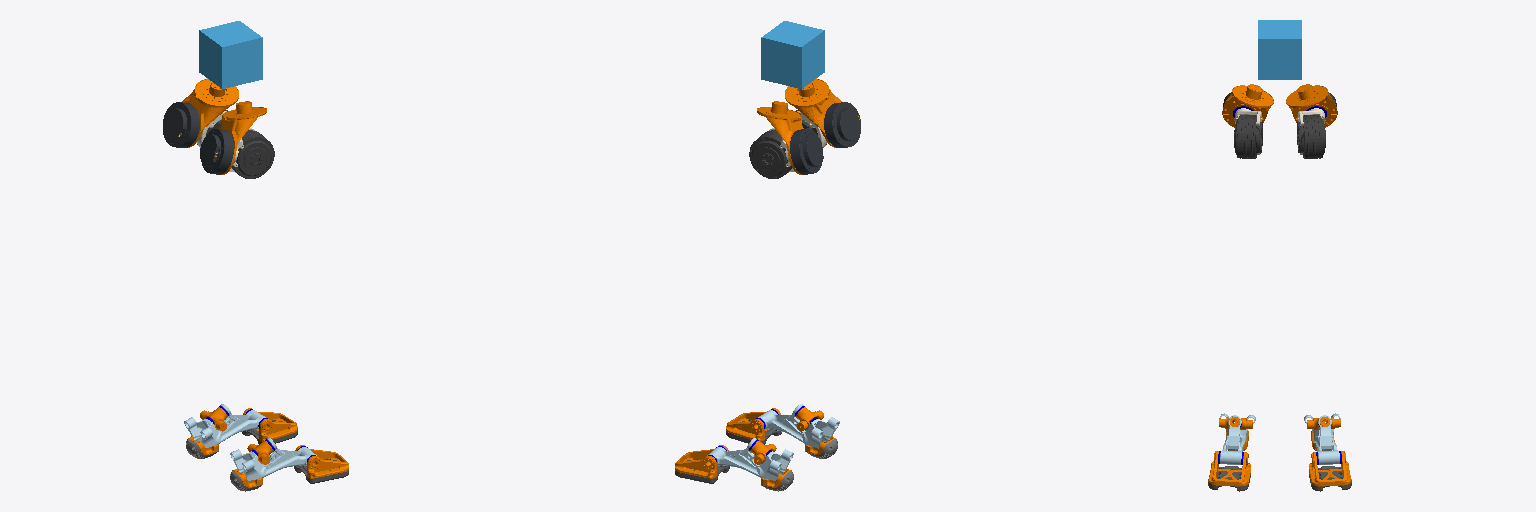
The robot description file, URDF, robot "prestoe":
<robot name="prestoe">
   
    <link name="torso_link">
        <inertial>
            <mass value="7.3955327"/>
            <inertia ixx="314898.04974e-6" ixy="-23.52183e-6" ixz="-983.13041e-6" iyy="292494.07567e-6" iyz="824.26242e-6" izz="47419.11099e-6"/>
            <origin rpy="0 0 0" xyz="0.02827e-3 -0.53546e-3 170.93286e-3"/>
        </inertial>
        <visual>
            <origin rpy="0 0 0" xyz="0.0 0.0 0.0"/>
            <geometry>
                <mesh filename="meshes/torso_link.dae"/>
            </geometry>
        </visual>
        <collision>
            <origin rpy="0 0 0" xyz="0.0 0.0 0.0"/>
            <geometry>
                <mesh filename="meshes/torso_link.dae"/>
            </geometry>
        </collision>
    </link>
    <joint name="torso_contact_joint" type="fixed">
        <parent link="torso_link"/>
        <child link="torso_contact"/>
        <origin xyz="0 0 0" rpy="0 0 0"/>
    </joint>
    <link name="torso_contact">
        <inertial>
            <mass value="0.0"/>
            <inertia ixx="0.0" ixy="0.0" ixz="0.0" iyy="0.0" iyz="0.0" izz="0.0"/>
            <origin rpy="0 0 0" xyz="0 0 0"/>
        </inertial>
        <visual>
            <origin rpy="0 0 0" xyz="0.0 0.0 0.0"/>
            <geometry>
                <box size="0.1 0.1 0.1"/>
            </geometry>
        </visual>
    </link>

 <joint name="a_torsoyaw" type="revolute">
      <parent link="torso_link"/>
      <child link="pelvis"/>
      <axis xyz="0 0 1"/>
      <origin rpy="0 0 0" xyz="0.0 0.0 -44.5e-3"/>
      <limit effort="1000" lower="-1.57079632679" upper="1.57079632679" velocity="20"/>
  </joint>

    <link name="pelvis">
        <inertial>
            <mass value="4.05352722"/>
            <inertia ixx="16129.06382e-6" ixy="0.02459e-6" ixz="-11.24282e-6" iyy="8349.24216e-6" iyz="0.16863e-6" izz="13083.52644e-6"/>
            <origin xyz="0.1893e-3 -0.00259e-3 -24.14927e-3"/>
        </inertial>
        <visual>
            <origin rpy="0 0 0" xyz="0.0 0.0 0.0"/>
            <geometry>
                <mesh filename="meshes/pelvis_link.dae"/>
            </geometry>
        </visual>
        <collision>
            <origin rpy="0 0 0" xyz="0.0 0.0 0.0"/>
            <geometry>
                <mesh filename="meshes/pelvis_link.dae"/>
            </geometry>
        </collision>
    </link>

    <joint name="bR_hipyaw" type="revolute">
        <parent link="pelvis"/>
        <child link="R_hipyaw_link"/>
        <axis xyz="0 0 1"/>
        <origin rpy="-0.2618 0 0" xyz="0 -54.71371e-3 -48.37244e-3"/>
        <!-- <origin rpy="0 0 0" xyz="0.0 0.0 -44.5e-3"/> -->
        <limit lower="-1.57" upper="1.57" effort="0.0" velocity="20.0"/>
    </joint>
    <link name="R_hipyaw_link">
        <inertial>
            <mass value="0.81333271"/>
            <inertia ixx="1468.70277e-6" ixy="2.09444e-6" ixz="-808.6506e-6" iyy="1952.95398e-6" iyz="0.83174e-6" izz="1403.2719e-6"/>
            <origin rpy="0 0 0" xyz="-60.23929e-3 0.06825e-3 -73.37881e-3"/>
        </inertial>
        <visual>
            <origin rpy="0 0 0" xyz="0.0 0.0 0.0"/>
            <geometry>
                <mesh filename="meshes/hip_yaw_link.dae"/>
            </geometry>
        </visual>
        <collision>
            <origin rpy="0 0 0" xyz="0.0 0.0 0.0"/>
            <geometry>
                <mesh filename="meshes/hip_yaw_link.dae"/>
            </geometry>
        </collision>
    </link>

    <joint name="R_hiproll" type="revolute">
        <parent link="R_hipyaw_link"/>
        <child link="R_hiproll_link"/>
        <axis xyz="1 0 0"/>
        <origin rpy="0.2618 0.3491 0" xyz="-63.99211e-3 0 -95.68919e-3"/>
        <!--another 15 degree tilt to undo the first one and 20 degree tilt-->
        <limit lower="-1.57" upper="1.57" effort="0.0" velocity="20.0"/>
    </joint>
    <link name="R_hiproll_link">
        <inertial>
            <mass value="1.14932568"/>
            <inertia ixx="920.07414e-6" ixy="-23.66697e-6" ixz="15.05929e-6" iyy="1586.13101e-6" iyz="2.15892e-6" izz="1226.34131e-6"/>
            <origin rpy="0 0 0" xyz="66.03824e-3 15.28026e-3 0.35756e-3"/>
        </inertial>
        <visual>
            <origin rpy="0 0 0" xyz="0.0 0.0 0.0"/>
            <geometry>
                <mesh filename="meshes/r_hip_roll_link.dae"/>
            </geometry>
        </visual>
        <collision>
            <origin rpy="0 0 0" xyz="0.0 0.0 0.0"/>
            <geometry>
                <mesh filename="meshes/r_hip_roll_link.dae"/>
            </geometry>
        </collision>
    </link>

    <joint name="R_hippitch" type="revolute">
        <parent link="R_hiproll_link"/>
        <child link="R_hippitch_link"/>
        <axis xyz="0 1 0"/>
        <origin rpy="0 -0.3491 0" xyz="74e-3 -15.7e-3 0"/>
        <!--another -20 degree tilt to undo the previous one-->
        <limit lower="-1.57" upper="1.57" effort="100.0" velocity="20.0"/>
    </joint>
    <link name="R_hippitch_link">
        <inertial>
            <mass value="4.3699915"/>
            <inertia ixx="298924.68663e-6" ixy="-352.44425e-6" ixz="7197.82909e-6" iyy="300685.59195e-6" iyz="13956.63711e-6" izz="10177.56262e-6"/>
            <origin rpy="0 0 0" xyz="8.85609e-3 12.34699e-3 -236.4855e-3"/>
        </inertial>

        <visual>
            <origin rpy="0 0 0" xyz="0.0 0.0 0.0"/>
            <geometry>
                <mesh filename="meshes/r_thigh_link.dae"/>
            </geometry>
        </visual>
        <collision>
            <origin rpy="0 0 0" xyz="0.0 0.0 0.0"/>
            <geometry>
                <mesh filename="meshes/r_thigh_link.dae"/>
            </geometry>
        </collision>
    </link>


    <joint name="R_knee" type="revolute">
        <parent link="R_hippitch_link"/>
        <child link="R_shank_link"/>
        <axis xyz="0 1 0"/>
        <origin rpy="0 0 0" xyz="0.0 15.2e-3 -348e-3"/>
        <limit upper="2.61799" lower="0.0" effort="0.0" velocity="20.0"/>
    </joint>
    <link name="R_shank_link">
        <inertial>
            <mass value="1.53872774"/>
            <inertia ixx="94818.95217e-6" ixy="0.73746e-6" ixz="-1571.54542e-6" iyy="94726.4192e-6" iyz="40.20347e-6" izz="2088.92694e-6"/>
            <origin rpy="0 0 0" xyz="-0.32914e-3 0.04704e-3 -219.68202e-3"/>
        </inertial>

        <visual>
            <origin rpy="0 0 0" xyz="0.0 0.0 0.0"/>
            <geometry>
                <mesh filename="meshes/shank_link.dae"/>
            </geometry>
        </visual>
        <collision>
            <origin rpy="0 0 0" xyz="0.0 0.0 0.0"/>
            <geometry>
                <mesh filename="meshes/shank_link.dae"/>
            </geometry>
        </collision>
    </link>


    <joint name="R_anklepitch" type="revolute">
        <parent link="R_shank_link"/>
        <child link="R_ankle_link"/>
        <axis xyz="0 1 0"/>
        <origin rpy="0 -0.523599 0" xyz="0.0 0.0 -0.355"/>
        <!--shift downwards, rotate by -30 deg-->
        <limit lower="-1.57" upper="1.57" effort="0.0" velocity="20.0"/>
    </joint>
    <link name="R_ankle_link">
        <inertial>
            <mass value="0.20111053"/>
            <inertia ixx="48.83414e-6" ixy="0.00143e-6" ixz="-0.0021e-6" iyy="45.95624e-6" iyz="0.00153e-6" izz="74.52458e-6"/>
            <origin rpy="0 0 0" xyz="11.07071e-3 0.00053e-3 -0.00076e-3"/>
        </inertial>

        <visual>
            <origin rpy="0 0 0" xyz="0.0 0.0 0.0"/>
            <geometry>
                <mesh filename="meshes/ankle_pitch_link.dae"/>
            </geometry>
        </visual>
        <collision>
            <origin rpy="0 0 0" xyz="0.0 0.0 0.0"/>
            <geometry>
                <mesh filename="meshes/ankle_pitch_link.dae"/>
            </geometry>
        </collision>
    </link>


    <joint name="R_ankleroll" type="revolute">
        <parent link="R_ankle_link"/>
        <child link="R_foot_link"/>
        <axis xyz="1 0 0"/>
        <origin rpy="0 0 0" xyz="0.0 0.0 0.0"/>
        <limit lower="-0.785" upper="0.785" effort="0.0" velocity="20.0"/>
    </joint>
    <link name="R_foot_link">
        <inertial>
            <mass value="0.67696856"/>
            <inertia ixx="2711.33678e-6" ixy="-0.10761e-6" ixz="1805.42888e-6" iyy="4882.55547e-6" iyz="-0.08071e-6" izz="2592.25732e-6"/>
            <origin rpy="0 0 0" xyz="22.09392e-3 -0.00337e-3 -50.15365e-3"/>
        </inertial>

        <visual>
            <origin rpy="0 0 0" xyz="0.0 0.0 0.0"/>
            <geometry>
                <mesh filename="meshes/foot_link.dae"/>
            </geometry>
        </visual>
        <collision>
            <origin rpy="0 0 0" xyz="0.0 0.0 0.0"/>
            <geometry>
                <mesh filename="meshes/foot_link.dae"/>
            </geometry>
        </collision>
    </link>
    <link name="R_heel_contact"/>
    <joint name="R_heel_contact_joint" type="fixed">
        <parent link="R_foot_link"/>
        <child link="R_heel_contact"/>
        <origin xyz="-64.374e-3 0 -51.76e-3" rpy="0 0 0"/>
    </joint> 

    <joint name="R_toepitch" type="revolute">
        <parent link="R_foot_link"/>
        <child link="R_toe_link"/>
        <axis xyz="0 1 0"/>
        <origin rpy="0 0.523599 0" xyz="84.97837e-3 0.0 -85.43851e-3"/>
        <limit lower="-0.5236" upper="0.5236" effort="0.0" velocity="20.0"/>
    </joint>
    <link name="R_toe_link">
        <inertial>
            <mass value="0.25395867"/>
            <inertia ixx="422.66848e-6" ixy="0.30058e-6" ixz="201.67782e-6" iyy="648.32269e-6" iyz="0.69143e-6" izz="657.93967e-6"/>
            <origin rpy="0 0 0" xyz="27.48999e-3 0.10489e-3 -26.31463e-3"/>
        </inertial>

        <visual>
            <origin rpy="0 0 0" xyz="0.0 0.0 0.0"/>
            <geometry>
                <mesh filename="meshes/toe_link.dae"/>
            </geometry>
        </visual>
        <collision>
            <origin rpy="0 0 0" xyz="0.0 0.0 0.0"/>
            <geometry>
                <mesh filename="meshes/toe_link.dae"/>
            </geometry>
        </collision>
    </link>
    <link name="R_toe_contact_1"/>
    <joint name="R_toe_contact_joint_1" type="fixed">
        <parent link="R_toe_link"/>
        <child link="R_toe_contact_1"/>
        <origin xyz="69e-3 30e-3 -44.9e-3" rpy="0 0 0"/>
    </joint>
    <link name="R_toe_contact_2"/>
    <joint name="R_toe_contact_joint_2" type="fixed">
        <parent link="R_toe_link"/>
        <child link="R_toe_contact_2"/>
        <origin xyz="-4e-3 33e-3 -44.9e-3" rpy="0 0 0"/>
    </joint>
    <link name="R_toe_contact_3"/>
    <joint name="R_toe_contact_joint_3" type="fixed">
        <parent link="R_toe_link"/>
        <child link="R_toe_contact_3"/>
        <origin xyz="69e-3 -30e-3 -44.9e-3" rpy="0 0 0"/>
    </joint>
    <link name="R_toe_contact_4"/>
    <joint name="R_toe_contact_joint_4" type="fixed">
        <parent link="R_toe_link"/>
        <child link="R_toe_contact_4"/>
        <origin xyz="-4e-3 -33e-3 -44.9e-3" rpy="0 0 0"/>
    </joint>
    <!--1 _________3
        |           |
        2           4
            5
    -->

    <!--!!!!!!!!!!!! Left Leg !!!!!!!!!!!!!!!!!!!!!!!!!!!!!!!!!!!!-->
    <joint name="cL_hipyaw" type="revolute">
        <parent link="pelvis"/>
        <child link="L_hipyaw_link"/>
        <axis xyz="0 0 1"/>
        <origin rpy="0.2618 0 0" xyz="0 54.71371e-3 -48.37244e-3"/>
        <limit effort="100" lower="-1.570796" upper="1.570796" velocity="20"/>
    </joint>
    <link name="L_hipyaw_link">
        <inertial>
            <mass value="0.81333271"/>
            <inertia ixx="1468.70277e-6" ixy="2.09444e-6" ixz="-808.6506e-6" iyy="1952.95398e-6" iyz="0.83174e-6" izz="1403.2719e-6"/>
            <origin rpy="0 0 0" xyz="-60.23929e-3 0.06825e-3 -73.37881e-3"/>
            <!-- Since this is left leg, y coordinate is positive -->
        </inertial>
        <visual>
            <origin rpy="0 0 0" xyz="0.0 0.0 0.0"/>
            <geometry>
                <mesh filename="meshes/hip_yaw_link.dae"/>
            </geometry>
        </visual>
        <collision>
            <origin rpy="0 0 0" xyz="0.0 0.0 0.0"/>
            <geometry>
                <mesh filename="meshes/hip_yaw_link.dae"/>
            </geometry>
        </collision>
    </link>

    <joint name="L_hiproll" type="revolute">
        <parent link="L_hipyaw_link"/>
        <child link="L_hiproll_link"/>
        <axis xyz="1 0 0"/>
        <origin rpy="-0.2618 0.3491 0" xyz="-63.99211e-3 0 -95.68919e-3"/>
        <!--another -15 degree tilt to undo the first one and 20 degree tilt-->
        <limit effort="100" lower="-1.570796" upper="1.570796" velocity="20"/>
    </joint>
    <link name="L_hiproll_link">
        <inertial>
            <mass value="1.14932588"/>
            <inertia ixx="920.08555e-6" ixy="23.66599e-6" ixz="13.88681e-6" iyy="1586.14307e-6" iyz="-2.43377e-6" izz="1226.34169e-6"/>
            <origin rpy="0 0 0" xyz="66.03823e-3 -15.28028e-3 0.34236e-3"/>
        </inertial>
        <visual>
            <origin rpy="0 0 0" xyz="0.0 0.0 0.0"/>
            <geometry>
                <mesh filename="meshes/l_hip_roll_link.dae"/>
            </geometry>
        </visual>
        <collision>
            <origin rpy="0 0 0" xyz="0.0 0.0 0.0"/>
            <geometry>
                <mesh filename="meshes/l_hip_roll_link.dae"/>
            </geometry>
        </collision>
    </link>

    <joint name="L_hippitch" type="revolute">
        <parent link="L_hiproll_link"/>
        <child link="L_hippitch_link"/>
        <axis xyz="0 1 0"/>
        <origin rpy="0 -0.3491 0" xyz="74e-3 15.7e-3 0"/>
        <!--another -20 degree tilt to undo the previous one-->
        <limit effort="100" lower="-1.570796" upper="1.570796" velocity="20"/>
    </joint>
    <link name="L_hippitch_link">
        <inertial>
            <mass value="4.3699915"/>
            <inertia ixx="298924.68663e-6" ixy="352.44425e-6" ixz="7197.82909e-6" iyy="300685.59195e-6" iyz="-13956.63711e-6" izz="10177.56262e-6"/>
            <origin rpy="0 0 0" xyz="8.85609e-3 -12.34699e-3 -236.4855e-3"/>
            <!-- Since this is left leg, y coordinate is negative -->
        </inertial>

        <visual>
            <origin rpy="0 0 0" xyz="0.0 0.0 0.0"/>
            <geometry>
                <mesh filename="meshes/l_thigh_link.dae"/>
            </geometry>
        </visual>
        <collision>
            <origin rpy="0 0 0" xyz="0.0 0.0 0.0"/>
            <geometry>
                <mesh filename="meshes/l_thigh_link.dae"/>
            </geometry>
        </collision>
    </link>


    <joint name="L_knee" type="revolute">
        <parent link="L_hippitch_link"/>
        <child link="L_shank_link"/>
        <axis xyz="0 1 0"/>
        <origin rpy="0 0 0" xyz="0.0 -15.2e-3 -348e-3"/>
        <limit effort="100" upper="2.61799" lower="0.0" velocity="20"/>
    </joint>
    <link name="L_shank_link">
        <inertial>
            <mass value="1.53872774"/>
            <inertia ixx="94818.95217e-6" ixy="0.73746e-6" ixz="-1571.54542e-6" iyy="94726.4192e-6" iyz="40.20347e-6" izz="2088.92694e-6"/>
            <origin rpy="0 0 0" xyz="-0.32914e-3 0.04704e-3 -219.68202e-3"/>
        </inertial>

        <visual>
            <origin rpy="0 0 0" xyz="0.0 0.0 0.0"/>
            <geometry>
                <mesh filename="meshes/shank_link.dae"/>
            </geometry>
        </visual>
        <collision>
            <origin rpy="0 0 0" xyz="0.0 0.0 0.0"/>
            <geometry>
                <mesh filename="meshes/shank_link.dae"/>
            </geometry>
        </collision>
    </link>


    <joint name="L_anklepitch" type="revolute">
        <parent link="L_shank_link"/>
        <child link="L_ankle_link"/>
        <axis xyz="0 1 0"/>
        <origin rpy="0 -0.523599 0" xyz="0.0 0.0 -0.355"/>
        <!--shift downwards, rotate by -30 deg-->
        <limit effort="100" lower="-1.570796" upper="1.570796" velocity="20"/>
    </joint>
    <link name="L_ankle_link">
        <inertial>
            <mass value="0.20111053"/>
            <inertia ixx="48.83414e-6" ixy="0.00143e-6" ixz="-0.0021e-6" iyy="45.95624e-6" iyz="0.00153e-6" izz="74.52458e-6"/>
            <origin rpy="0 0 0" xyz="11.07071e-3 0.00053e-3 -0.00076e-3"/>
        </inertial>

        <visual>
            <origin rpy="0 0 0" xyz="0.0 0.0 0.0"/>
            <geometry>
                <mesh filename="meshes/ankle_pitch_link.dae"/>
            </geometry>
        </visual>
        <collision>
            <origin rpy="0 0 0" xyz="0.0 0.0 0.0"/>
            <geometry>
                <mesh filename="meshes/ankle_pitch_link.dae"/>
            </geometry>
        </collision>
    </link>


    <joint name="L_ankleroll" type="revolute">
        <parent link="L_ankle_link"/>
        <child link="L_foot_link"/>
        <axis xyz="1 0 0"/>
        <origin rpy="0 0 0" xyz="0.0 0.0 0.0"/>
        <limit effort="100" lower="-0.523599" upper="0.523599" velocity="20"/>
    </joint>
    <link name="L_foot_link">
        <inertial>
            <mass value="0.67696856"/>
            <inertia ixx="2711.33678e-6" ixy="-0.10761e-6" ixz="1805.42888e-6" iyy="4882.55547e-6" iyz="-0.08071e-6" izz="2592.25732e-6"/>
            <origin rpy="0 0 0" xyz="22.09392e-3 -0.00337e-3 -50.15365e-3"/>
        </inertial>

        <visual>
            <origin rpy="0 0 0" xyz="0.0 0.0 0.0"/>
            <geometry>
                <mesh filename="meshes/foot_link.dae"/>
            </geometry>
        </visual>
        <collision>
            <origin rpy="0 0 0" xyz="0.0 0.0 0.0"/>
            <geometry>
                <mesh filename="meshes/foot_link.dae"/>
            </geometry>
        </collision>
    </link>
    <link name="L_heel_contact"/>
    <joint name="L_heel_contact_joint" type="fixed">
        <parent link="L_foot_link"/>
        <child link="L_heel_contact"/>
        <origin xyz="-63.374e-3 0 -51.76e-3" rpy="0 0 0"/>
    </joint>

    <joint name="L_toepitch" type="revolute">
        <parent link="L_foot_link"/>
        <child link="L_toe_link"/>
        <axis xyz="0 1 0"/>
        <origin rpy="0 0.523599 0" xyz="84.97837e-3 0.0 -85.43851e-3"/>
        <limit effort="100" lower="-0.523599" upper="0.523599" velocity="20"/>
    </joint>
    <link name="L_toe_link">
        <inertial>
            <mass value="0.25395867"/>
            <inertia ixx="422.66848e-6" ixy="0.30058e-6" ixz="201.67782e-6" iyy="648.32269e-6" iyz="0.69143e-6" izz="657.93967e-6"/>
            <origin rpy="0 0 0" xyz="27.48999e-3 0.10489e-3 -26.31463e-3"/>
        </inertial>

        <visual>
            <origin rpy="0 0 0" xyz="0.0 0.0 0.0"/>
            <geometry>
                <mesh filename="meshes/toe_link.dae"/>
            </geometry>
        </visual>
        <collision>
            <origin rpy="0 0 0" xyz="0.0 0.0 0.0"/>
            <geometry>
                <mesh filename="meshes/toe_link.dae"/>
            </geometry>
        </collision>
    </link>

    <link name="L_toe_contact_1"/>
    <joint name="L_toe_contact_joint_1" type="fixed">
        <parent link="L_toe_link"/>
        <child link="L_toe_contact_1"/>
        <origin xyz="69e-3 30e-3 -44.9e-3" rpy="0 0 0"/>
    </joint>
    <link name="L_toe_contact_2"/>
    <joint name="L_toe_contact_joint_2" type="fixed">
        <parent link="L_toe_link"/>
        <child link="L_toe_contact_2"/>
        <origin xyz="-4e-3 33e-3 -44.9e-3" rpy="0 0 0"/>
    </joint>
    <link name="L_toe_contact_3"/>
    <joint name="L_toe_contact_joint_3" type="fixed">
        <parent link="L_toe_link"/>
        <child link="L_toe_contact_3"/>
        <origin xyz="69e-3 -30e-3 -44.9e-3" rpy="0 0 0"/>
    </joint>
    <link name="L_toe_contact_4"/>
    <joint name="L_toe_contact_joint_4" type="fixed">
        <parent link="L_toe_link"/>
        <child link="L_toe_contact_4"/>
        <origin xyz="-4e-3 -33e-3 -44.9e-3" rpy="0 0 0"/>
    </joint>

</robot>

--- Facts derived from the render (not from the file) ---
The picture shows the robot from 3 angles, left to right: view 1: azimuth 30°, elevation 25°; view 2: azimuth 150°, elevation 25°; view 3: azimuth 270°, elevation 25°; orthographic projection.
Model prestoe with 27 links and 26 joints (15 revolute, 11 fixed), rooted at torso_link, posed every joint at zero.
Links seen in each view (by area): view 1: torso_contact, L_hipyaw_link, R_hipyaw_link, R_foot_link, L_foot_link, R_hiproll_link, R_toe_link, L_toe_link; view 2: torso_contact, R_hipyaw_link, L_hipyaw_link, L_foot_link, R_foot_link, L_hiproll_link, L_toe_link, R_toe_link; view 3: torso_contact, R_hiproll_link, L_hiproll_link, R_hipyaw_link, L_hipyaw_link, R_toe_link, L_toe_link, R_foot_link, L_foot_link.
Boxes of the visible links, bbox=[...] form: torso_contact: bbox=[199, 21, 262, 88]; L_hipyaw_link: bbox=[163, 78, 238, 147]; R_hipyaw_link: bbox=[200, 101, 266, 174]; R_foot_link: bbox=[230, 438, 316, 491]; L_foot_link: bbox=[184, 404, 267, 458]; R_hiproll_link: bbox=[229, 128, 274, 178]; R_toe_link: bbox=[294, 445, 348, 483]; L_toe_link: bbox=[242, 408, 297, 444]; torso_contact: bbox=[761, 21, 824, 88]; R_hipyaw_link: bbox=[785, 78, 860, 147]; L_hipyaw_link: bbox=[757, 101, 823, 174]; L_foot_link: bbox=[707, 438, 793, 491]; R_foot_link: bbox=[756, 404, 839, 458]; L_hiproll_link: bbox=[749, 128, 794, 178]; L_toe_link: bbox=[675, 445, 729, 483]; R_toe_link: bbox=[726, 408, 781, 444]; torso_contact: bbox=[1258, 20, 1301, 79]; R_hiproll_link: bbox=[1234, 108, 1262, 158]; L_hiproll_link: bbox=[1297, 108, 1325, 158]; R_hipyaw_link: bbox=[1222, 84, 1273, 127]; L_hipyaw_link: bbox=[1286, 84, 1337, 127]; R_toe_link: bbox=[1208, 451, 1250, 491]; L_toe_link: bbox=[1309, 451, 1351, 491]; R_foot_link: bbox=[1218, 413, 1255, 464]; L_foot_link: bbox=[1304, 413, 1341, 464].
Size in the robot's own frame: 0.3278 by 0.3194 by 1.04 metres.
10 mesh visuals loaded from 11 distinct referenced files (6 Collada DAE); not drawn: 6 (reference not matched to a file when rendering).
